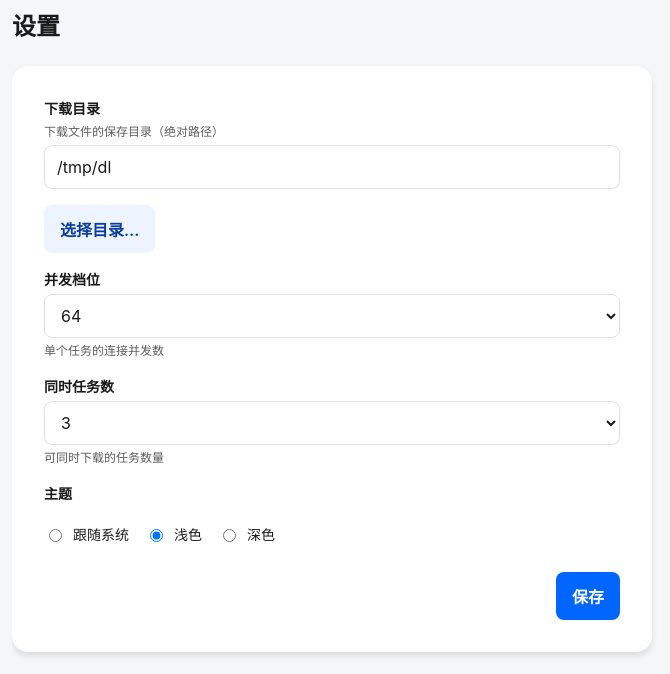
Test: 设置页：选择目录（计划外 Task 11，系统原生目录选择器） › 成功分支：POST /api/fs/pick-dir → picked:true → 回填 destDir 输入框，不自动保存（无 PUT、无 toast）
Expected: the field labelled "下载目录" is shown, [44,145,620,189]
Click the button "选择目录…".
click(100, 229)  # box [44,205,155,253]
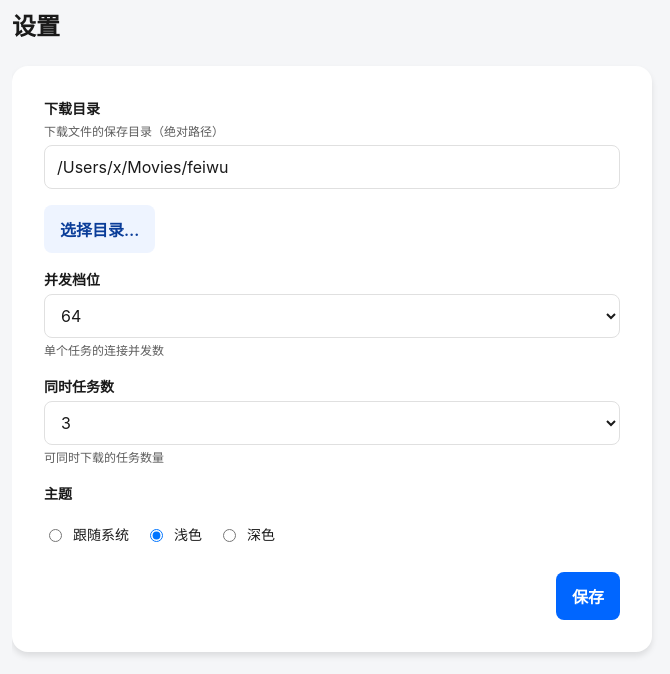
Expected: the field labelled "下载目录" holds "/Users/x/Movies/feiwu", [44,145,620,189]
